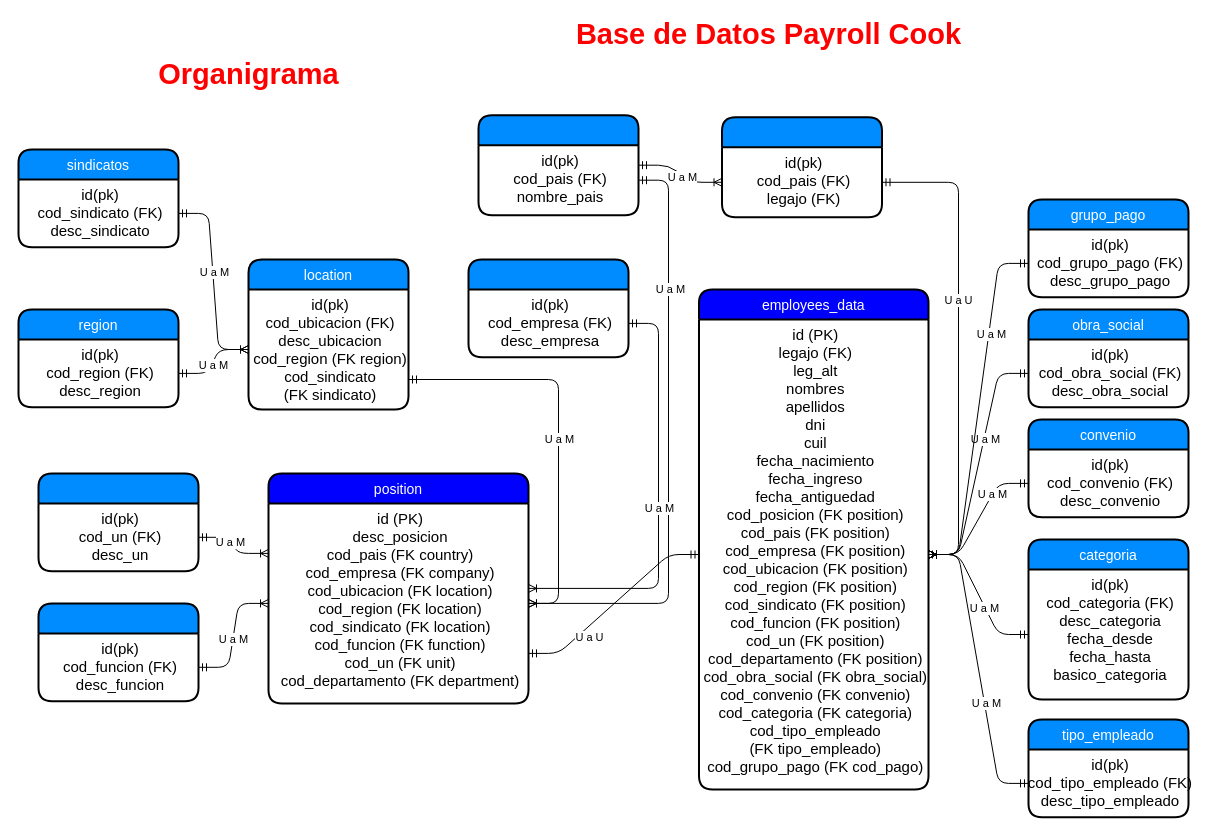
Image size: 1210x836. Some labels were removed from this diagram. The shapes that lost their labels are listed below. From the top down, each one's box as (x1, y1, x2, y2) in pixels, then its label:
(477, 114, 639, 216): country
(720, 116, 882, 218): emplid
(467, 258, 629, 358): company
(37, 472, 199, 572): unit
(37, 602, 199, 702): function
